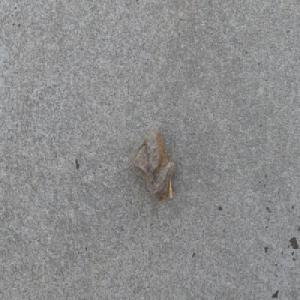Rock: (129, 123, 174, 203)
